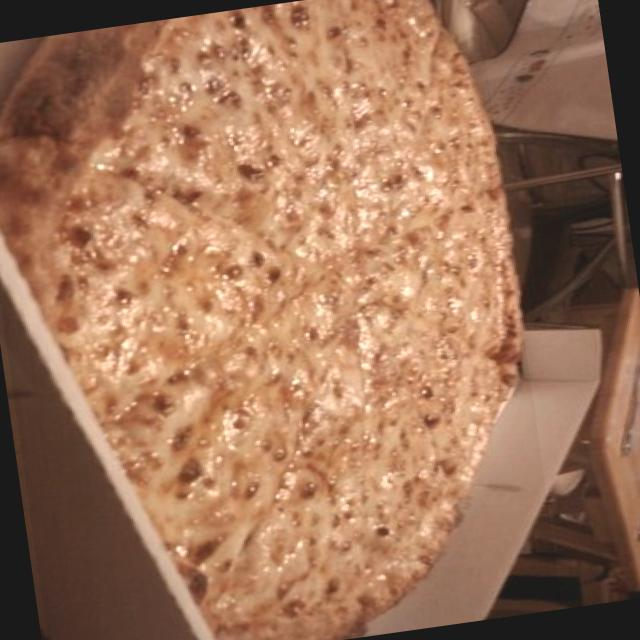pizza: (0, 0, 522, 640)
